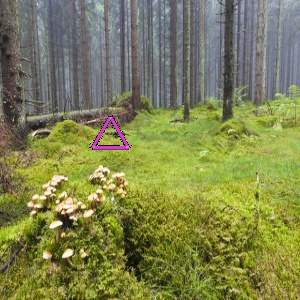triangle: (88, 113, 132, 154)
